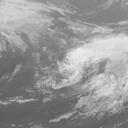cyclone: (60, 41, 107, 96)
